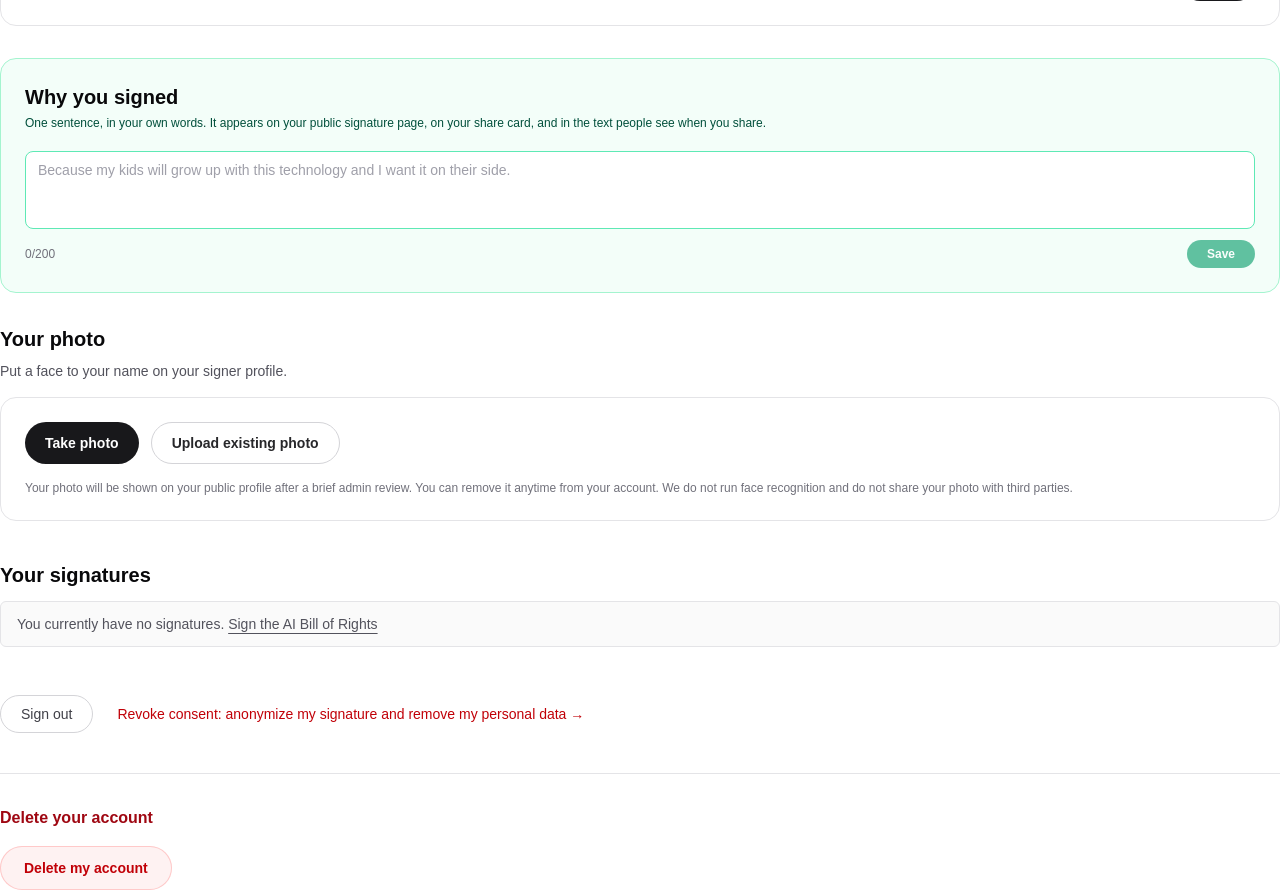
Test case: Delete my account › Cancel backs out without deleting anything
(page scrolled)
Step 1. Click the button "Delete my account" → (86, 868), box [0,846,172,889]
(page scrolled)
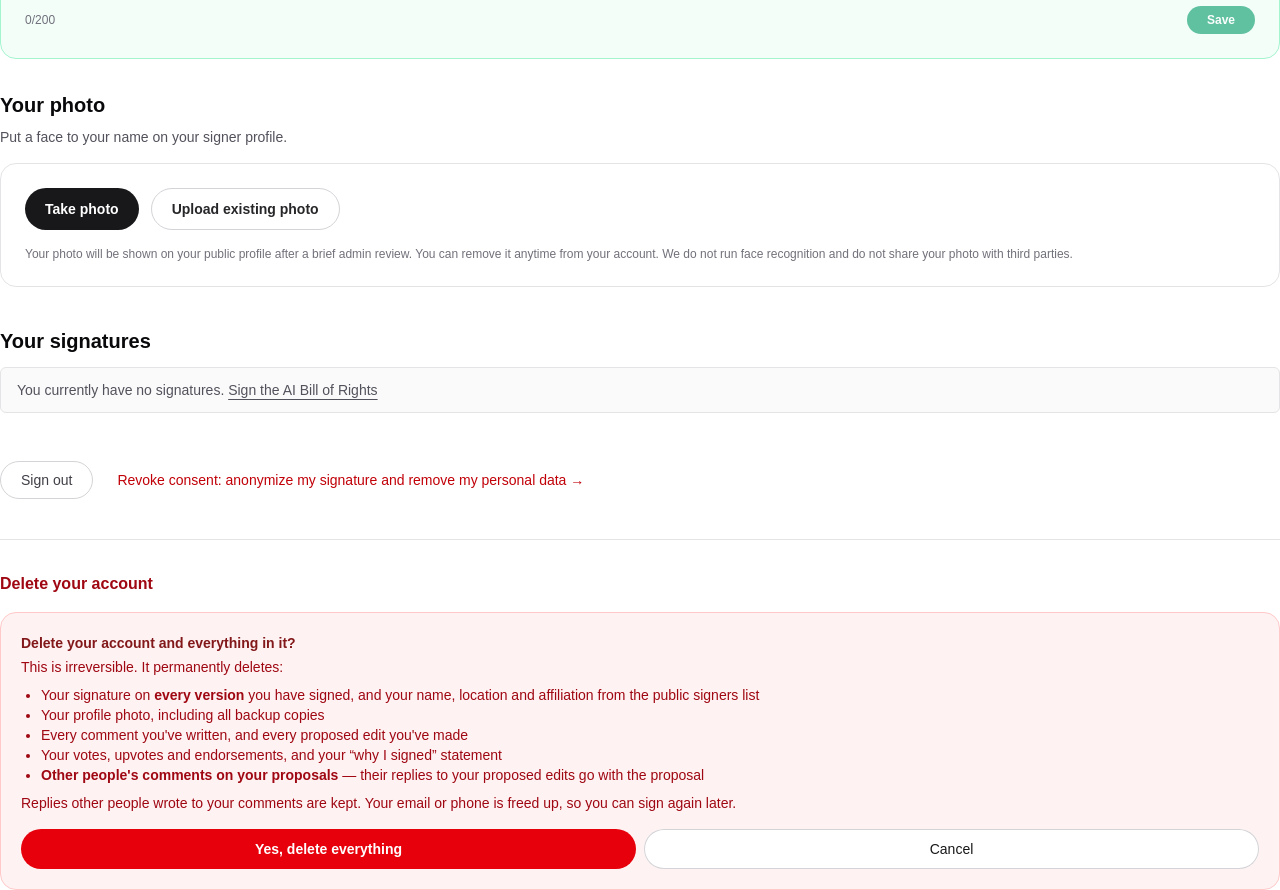
Step 2. Click the button "Cancel" → (952, 849), box [644,829,1259,869]
(page scrolled)
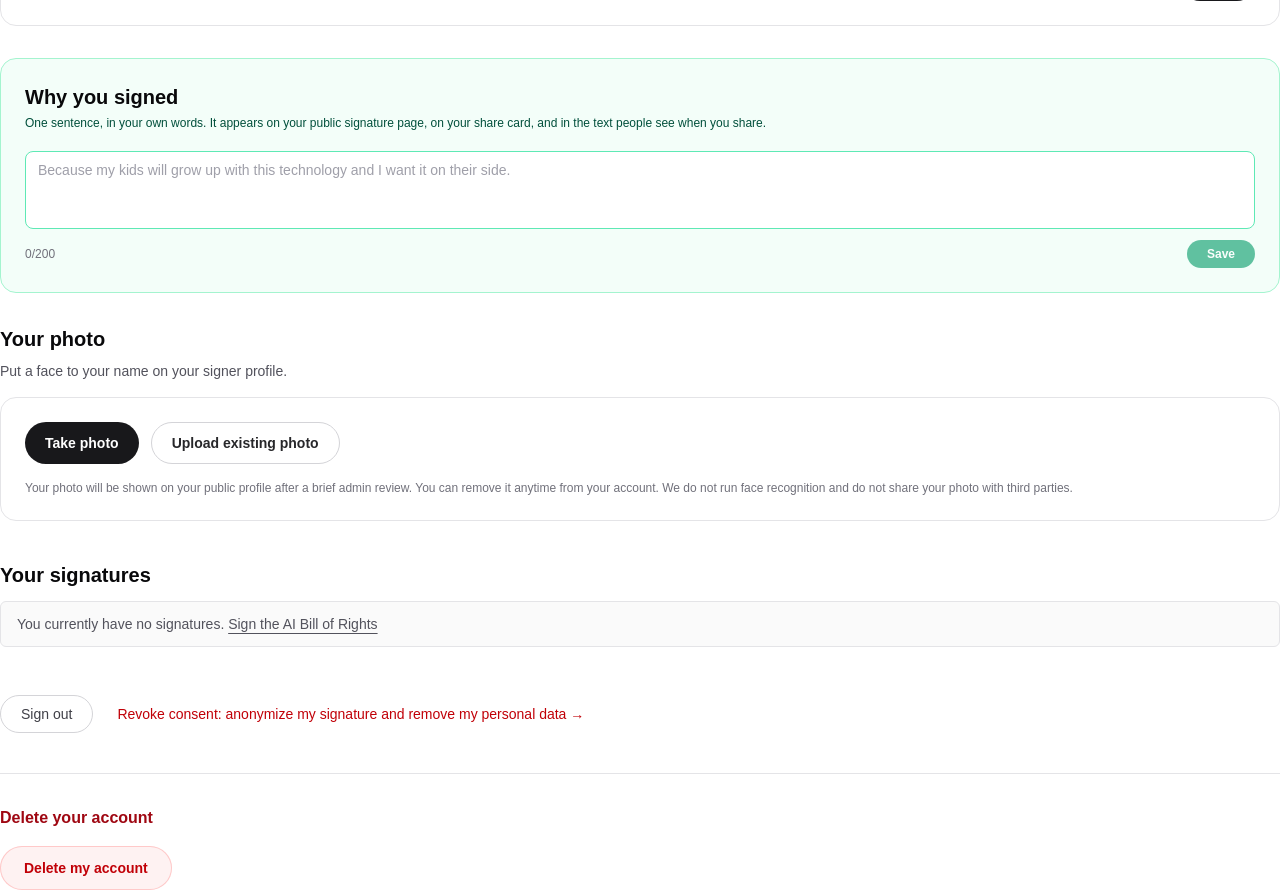
Expected: the button "Delete my account" is shown, [0,846,172,889]
